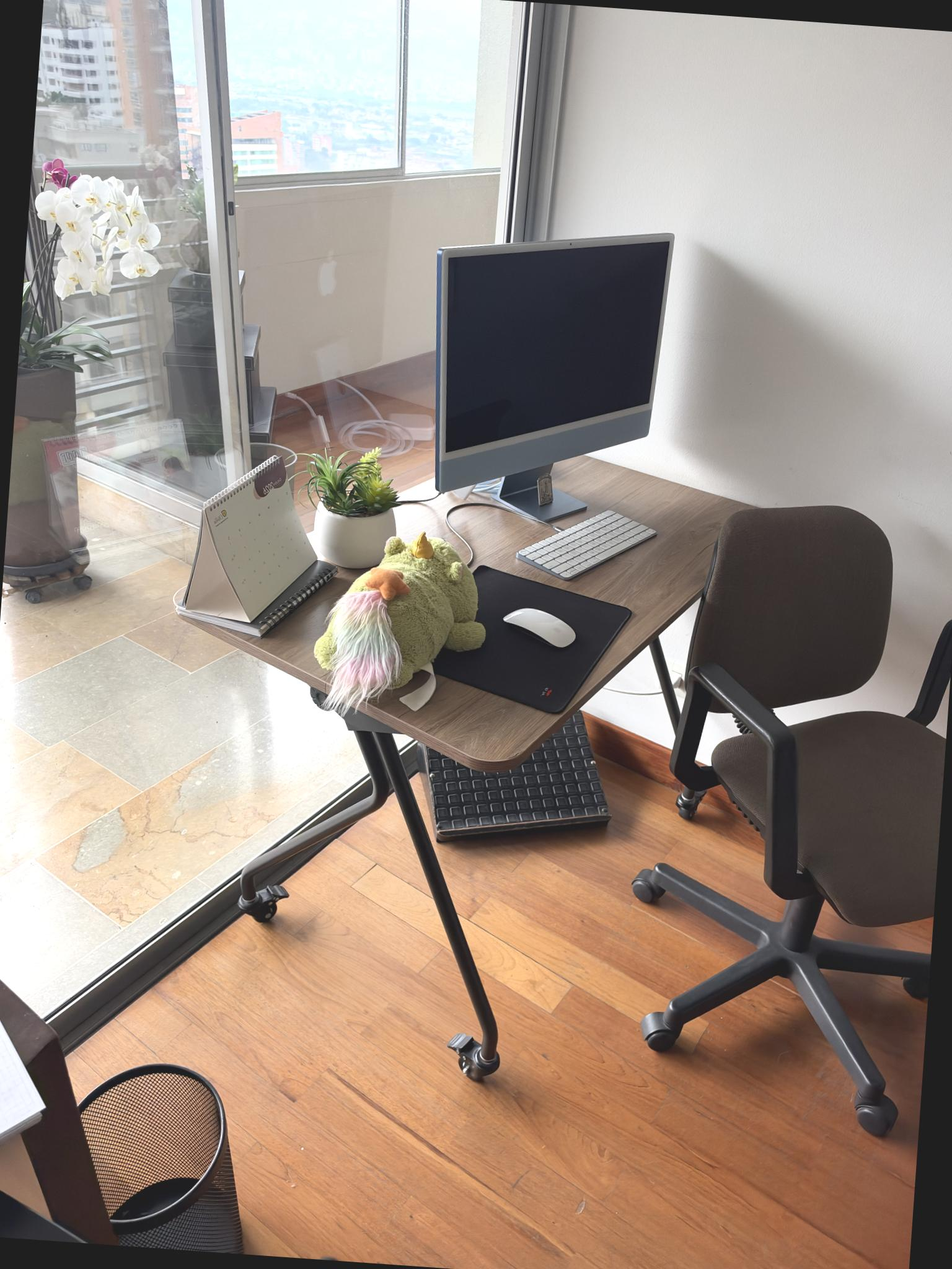peluche_martin: (308, 524, 493, 731)
